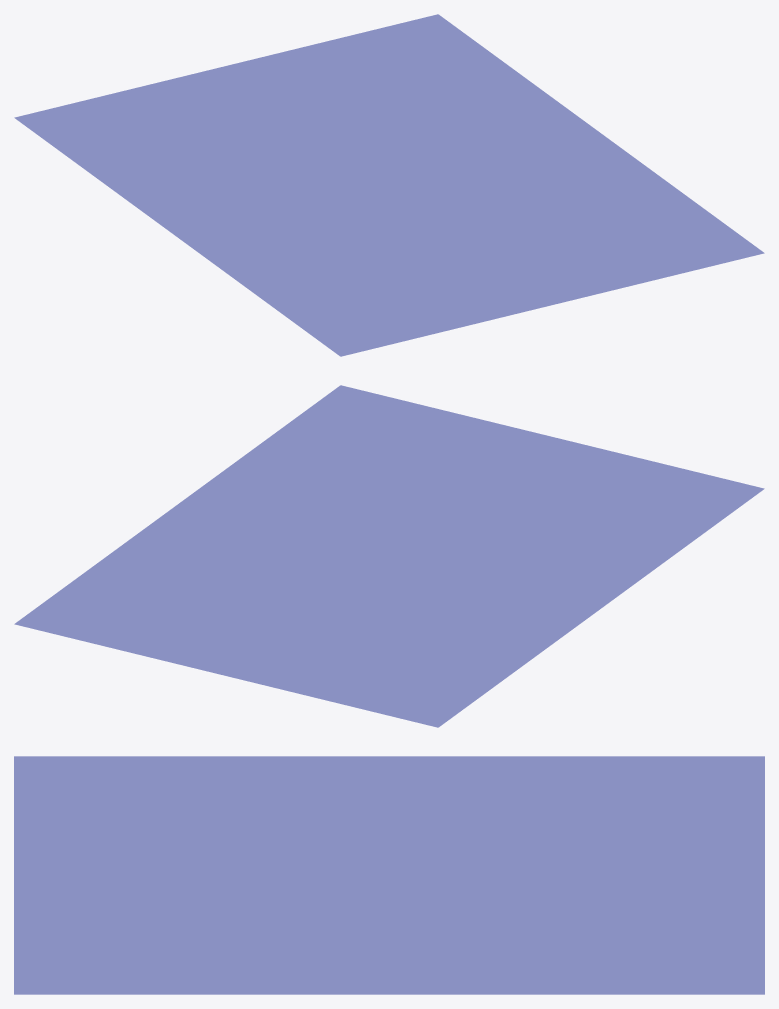
The model's file is Floor_3x_4x.FBX.
3 renders of one model, top to bottom at view 1: azimuth 30°, elevation 25°; view 2: azimuth 150°, elevation 25°; view 3: azimuth 270°, elevation 25°, orthographic. The views are drawn at different scales.
Parts seen in each view (by area): view 1: Floor_3x_4x; view 2: Floor_3x_4x; view 3: Floor_3x_4x.
Boxes of the visible parts, <box> form: Floor_3x_4x: <box>14,14,764,356</box>; Floor_3x_4x: <box>14,385,764,727</box>; Floor_3x_4x: <box>14,756,764,994</box>.
Size of the model in its own units: 300 by 400 by 2.18e-05.
